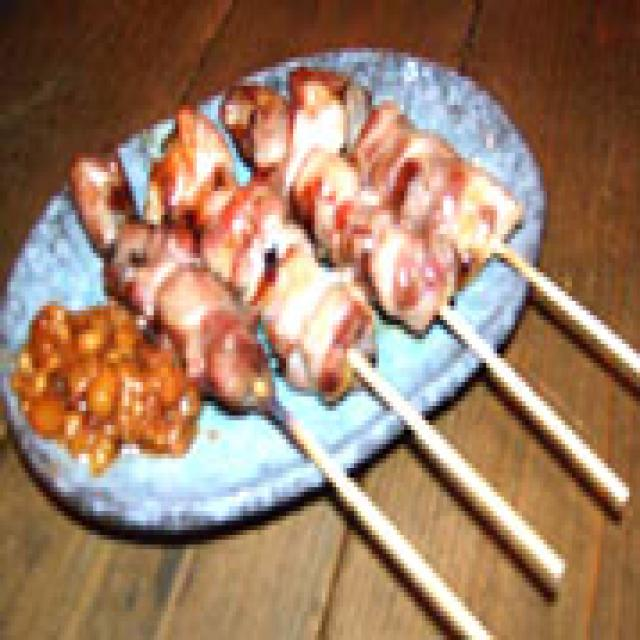烧串烤肉: (50, 38, 640, 640)
